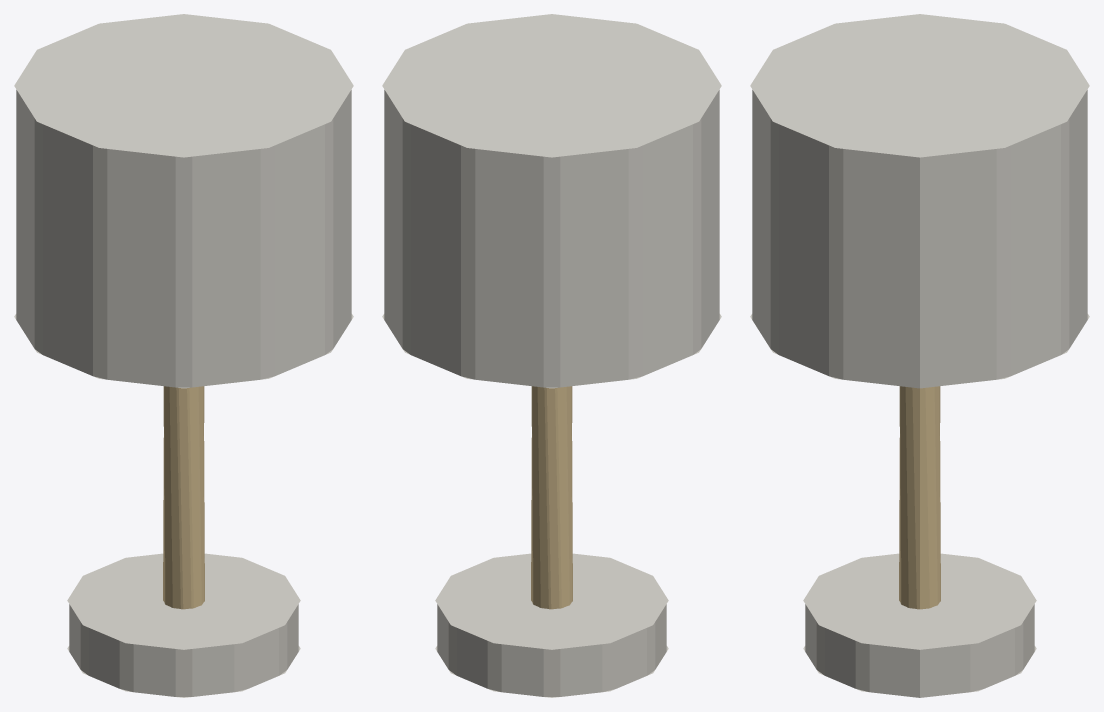
The model's file is table_lamp.glb.
3 views of the same model, side by side, from view 1: azimuth 30°, elevation 25°; view 2: azimuth 150°, elevation 25°; view 3: azimuth 270°, elevation 25° (orthographic).
Parts seen in each view (by area): view 1: table_lamp_ivory_2, table_lamp_stone_0, table_lamp_brass_1; view 2: table_lamp_ivory_2, table_lamp_stone_0, table_lamp_brass_1; view 3: table_lamp_ivory_2, table_lamp_stone_0, table_lamp_brass_1.
Part boxes in pixels (bbox=[...]): table_lamp_ivory_2: bbox=[14, 14, 353, 388]; table_lamp_stone_0: bbox=[67, 553, 300, 697]; table_lamp_brass_1: bbox=[163, 386, 204, 609]; table_lamp_ivory_2: bbox=[382, 14, 721, 388]; table_lamp_stone_0: bbox=[435, 553, 668, 697]; table_lamp_brass_1: bbox=[531, 386, 572, 609]; table_lamp_ivory_2: bbox=[750, 14, 1089, 388]; table_lamp_stone_0: bbox=[803, 553, 1036, 697]; table_lamp_brass_1: bbox=[899, 386, 940, 609].
Size of the model in its own units: 0.32 by 0.585 by 0.32.
